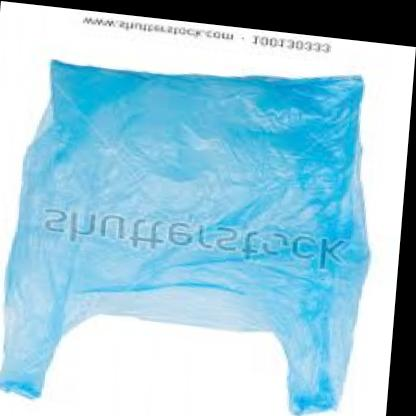Plastic: (0, 26, 390, 416)
